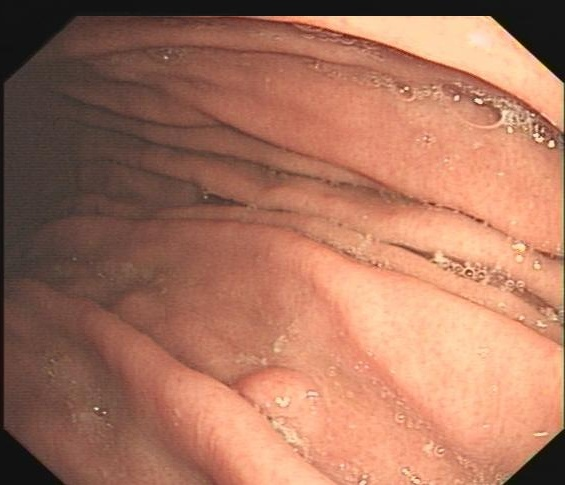Polyp: (229, 361, 330, 433)
